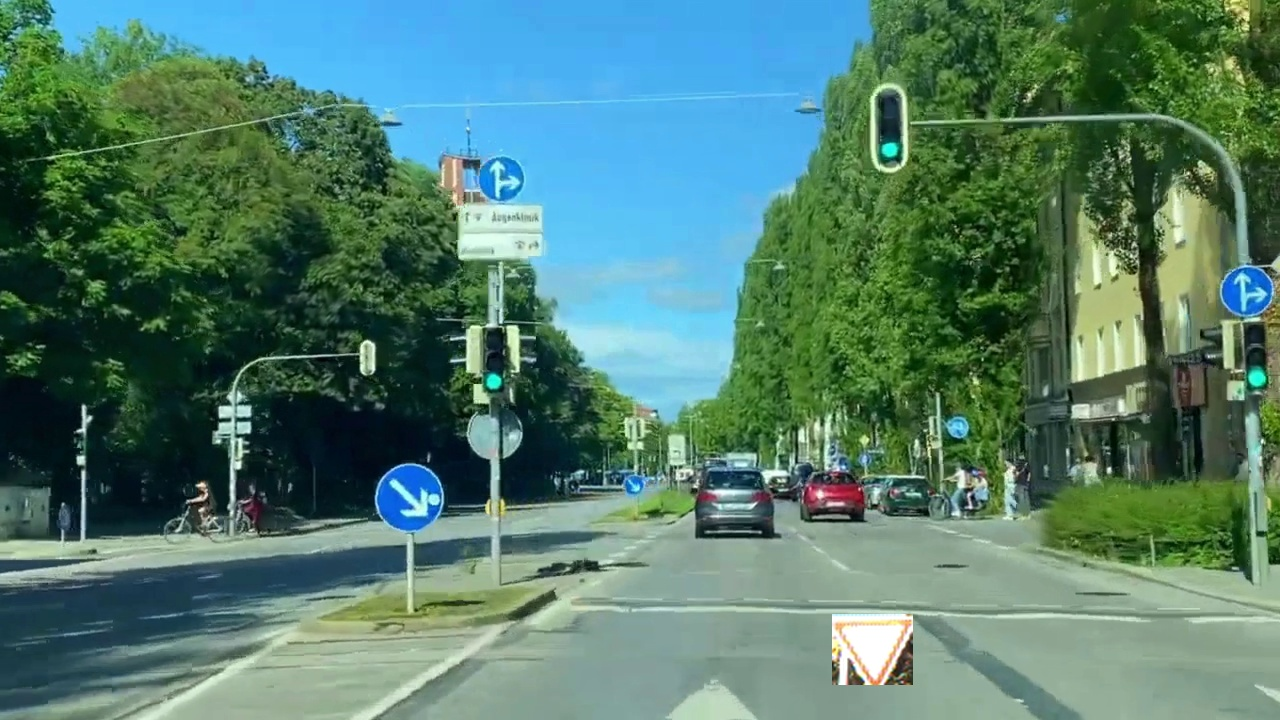Yield: (832, 614, 913, 685)
